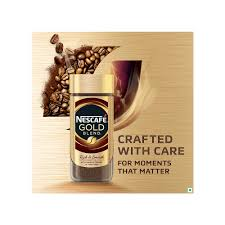nescafe-classic/gold-med: (68, 72, 117, 184)
